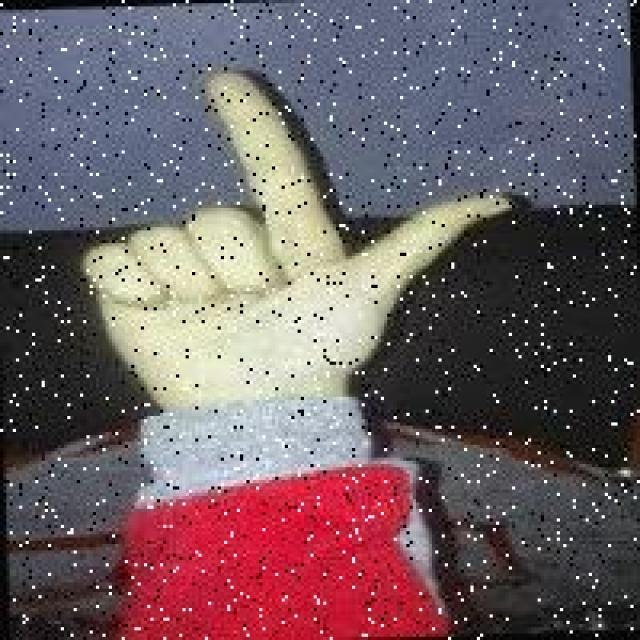L: (66, 46, 536, 405)
